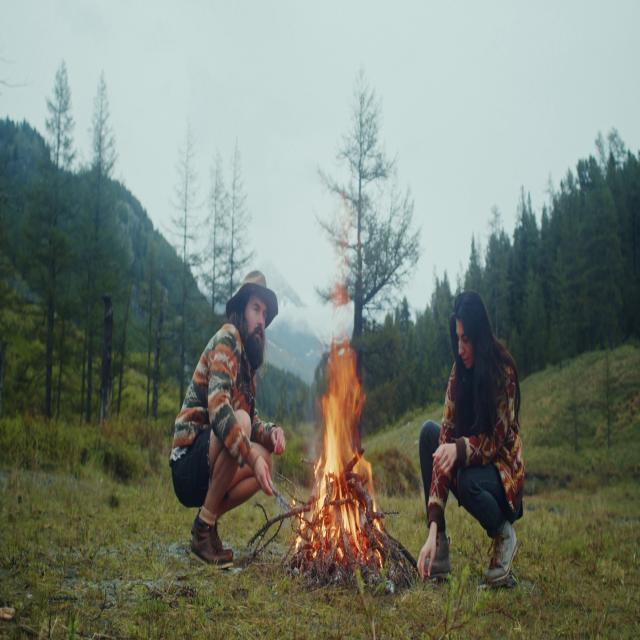Fire: (301, 337, 384, 565)
